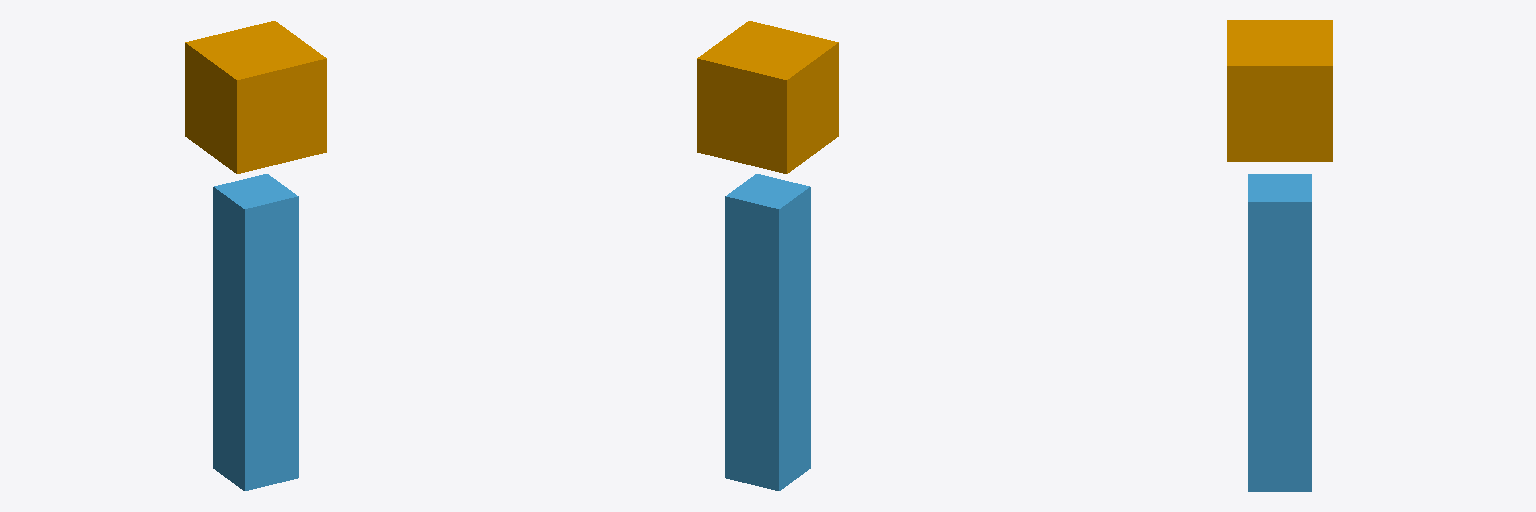
robot.urdf — robot:
<?xml version="1.0"?>
<robot name="robot">

    <link name="body">
      <inertial>
      <origin rpy="0 0 0" xyz="0 0 0"/>
       <mass value="1.0"/>
       <inertia ixx="0.0286709" ixy="0.0" ixz="0.0" iyy="0.05762245" iyz="0.0" izz="0.05687364"/>
    </inertial>
    <visual>
      <origin rpy="0.0 0 0" xyz="0 0 0"/>
      <geometry>
        <box size="0.05 0.05 0.05"/>
      </geometry>
    </visual>
    <collision>
    <geometry>
          <box size="0.05 0.05 0.05"/>
        </geometry>
    </collision>
  </link>

  <!--leg 1++++++++++++++++++++++++++++++++++++++++++++++++++++++++++++++++++++++++++++++++++++++++++++++++++++++++++++++++-->
      <link name="hipSegment1">
              <inertial>
      <origin rpy="0 0 0" xyz="0 0 -0.075"/>
       <mass value="0.35"/>
       <inertia ixx="0.0120898" ixy="0.0" ixz="-0.0" iyy="0.0195173" iyz="0.0" izz="0.0257479"/>
    </inertial>
    <visual>
      <origin rpy="0 0 0" xyz="0 0 -0.075"/>
      <geometry>
        <box size="0.03 0.03 0.15"/>
      </geometry>
    </visual>
    <collision>
    <geometry>
          <box size="0.03 0.03 0.15"/>
        </geometry>
    </collision>
  </link>

 <joint name="body_to_hip1" type="revolute">
    <parent link="body"/>
    <child link="hipSegment1"/>
    <axis xyz="0 1 0"/>
    <limit effort="100000.0" lower="-3" upper="3" velocity="10000"/>
    <origin rpy="0 0 0 " xyz="0.0 0 -0.05"/>
  </joint>

      <!--link name="shankSegment1">
              <inertial>
      <origin rpy="0 0 0" xyz=" 0 0 -0.075"/>
       <mass value="7"/>
       <inertia ixx="0.0914" ixy="0.0" ixz="0.0" iyy="0.040093" iyz="0" izz="0.039845"/>
    </inertial>
    <visual>
      <origin rpy="0 0 0" xyz="0 0 -0.075"/>
      <geometry>
        <box size="0.01 0.01 0.15"/>
      </geometry>
    </visual>
    <collision>
    <geometry>
          <box size="0.01 0.01 0.15"/>
        </geometry>
    </collision>
  </link>

 <joint name="hip_to_shank1" type="revolute">
    <parent link="hipSegment1"/>
    <child link="shankSegment1"/>
    <limit effort="1000.0" lower="-3" upper="3" velocity="100"/>
        <axis  xyz="0 1 0"/>
    <origin rpy= "0 0 0 " xyz="0 0.0  -0.15"/>
    <dynamics damping="0.0" friction="0.0"/>
  </joint>

  
      <link name="footSegment1">
              <inertial>
      <origin rpy="0 0 0" xyz=" 0 0 -0.075"/>
       <mass value="3"/>
       <inertia ixx="0.017891" ixy="0" ixz="0" iyy="0.017938" iyz="0.0" izz="0.0108"/>
    </inertial>
    <visual>
      <origin rpy="0 0 0" xyz="0 0 -0.075"/>
      <geometry>
        <box size="0.01 0.01 0.15"/>
      </geometry>
    </visual>
    <collision>
    <geometry>
          <box size="0.01 0.05 0.15"/>
        </geometry>
    </collision>
  </link>

 <joint name="shank_to_foot1" type="revolute">
    <parent link="shankSegment1"/>
    <child link="footSegment1"/>
    <limit effort="1000.0" lower="-3" upper="3" velocity="100"/>
        <axis xyz="0 1 0"/>
    <origin rpy= "0 0 0 " xyz=" 0  0 -0.15 "/>
    <dynamics damping="0.0" friction="0.0"/>
  </joint-->
</robot>

--- Render facts (derived) ---
Views: 3 orthographic renders of the robot side by side, from view 1: azimuth 30°, elevation 25°; view 2: azimuth 150°, elevation 25°; view 3: azimuth 270°, elevation 25°.
Robot: robot — 2 links, 1 joints (1 revolute); root link body; default pose: every joint at zero.
Links seen in each view (by area): view 1: hipSegment1, body; view 2: hipSegment1, body; view 3: hipSegment1, body.
Boxes of the visible links, x1,y1,x2,y2 form: hipSegment1: (213, 174, 298, 490); body: (185, 21, 326, 173); hipSegment1: (725, 174, 810, 490); body: (697, 21, 838, 173); hipSegment1: (1248, 174, 1311, 491); body: (1227, 20, 1332, 161).
Bounding box of the posed robot: 0.05 × 0.05 × 0.225 m (x, y, z).
Geometry: primitives only (box / cylinder / sphere), no mesh files.